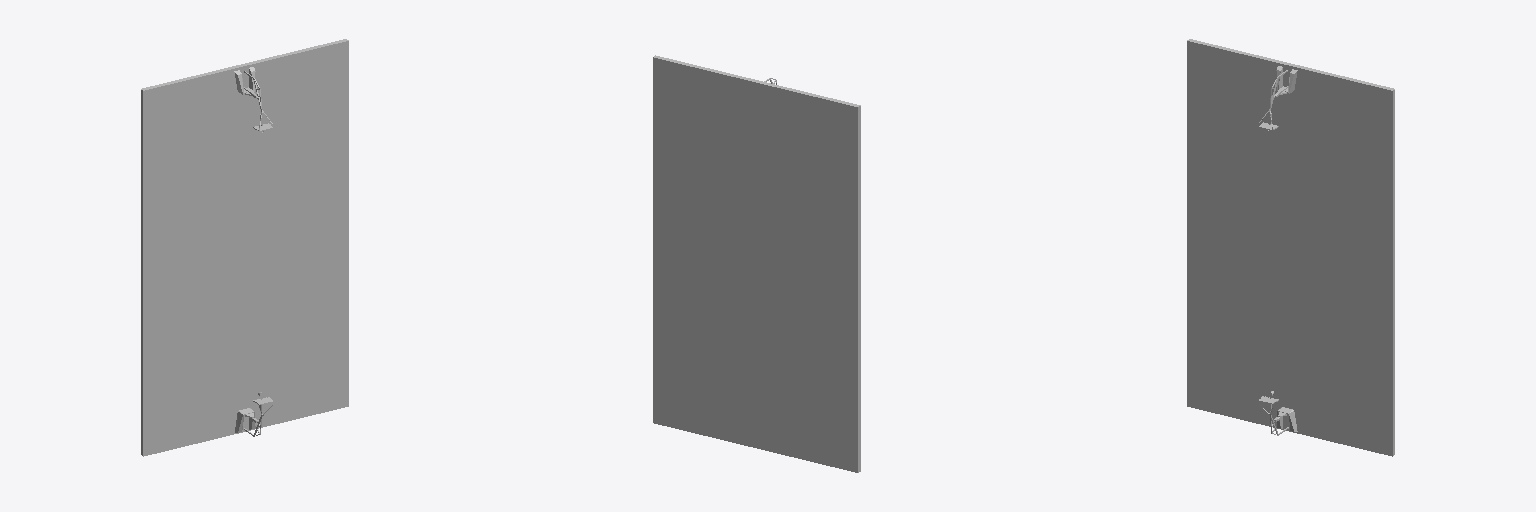
File: Court with hoops.obj
3 renders of one model, left to right at view 1: azimuth 30°, elevation 25°; view 2: azimuth 150°, elevation 25°; view 3: azimuth 330°, elevation 25°, orthographic.
Visible parts, largest first — view 1: Object.1; view 2: Object.1; view 3: Object.1.
Part boxes in pixels (bbox=[...]): Object.1: bbox=[141, 39, 348, 456]; Object.1: bbox=[653, 55, 860, 472]; Object.1: bbox=[1187, 39, 1394, 456].
Bounding box in the file's own units: 20000 × 34000 × 4260.